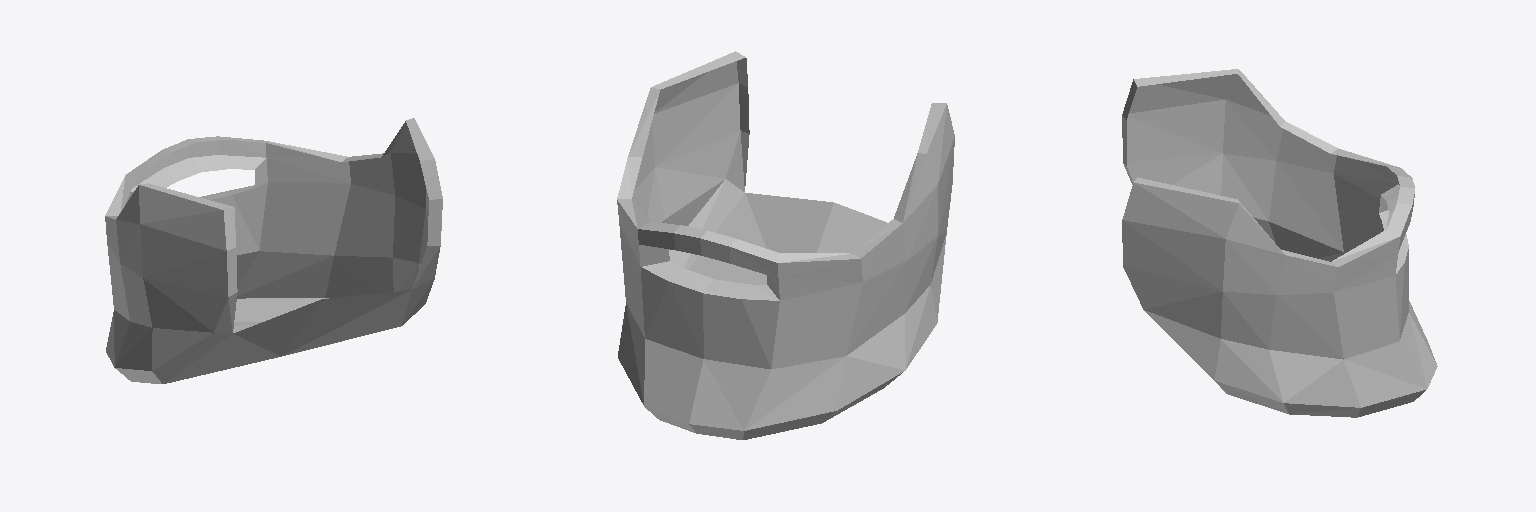
The model's file is beard.obj.
3 views of the same model, side by side, from view 1: azimuth 30°, elevation 25°; view 2: azimuth 150°, elevation 25°; view 3: azimuth 270°, elevation 25° (orthographic).
Size of the model in its own units: 3.2 by 2.68 by 3.06.